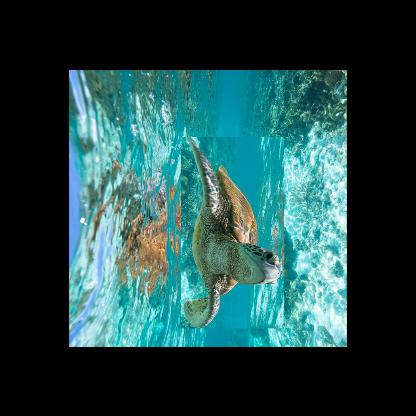turtle: (180, 135, 284, 327)
